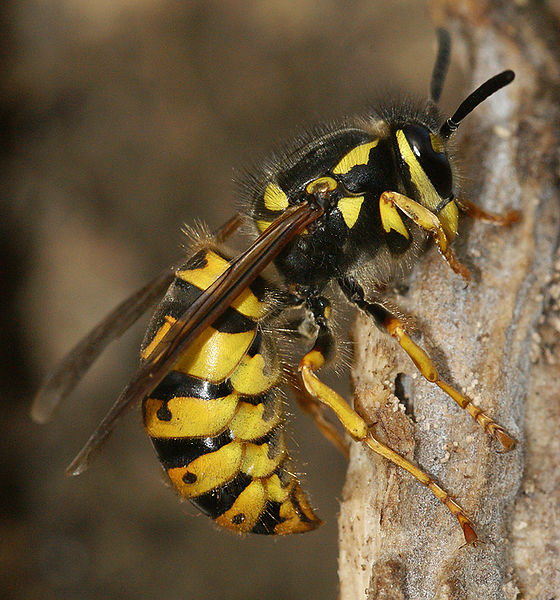chax: (30, 17, 539, 561)
